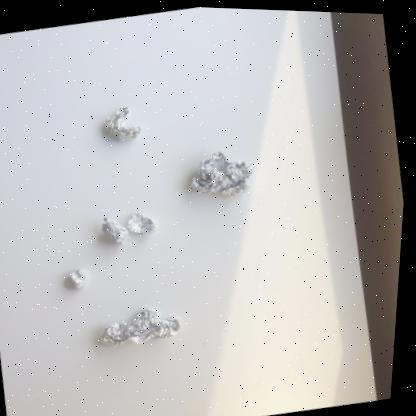Metal: (105, 306, 183, 344), (191, 148, 254, 194), (106, 105, 143, 139), (103, 215, 132, 243), (127, 210, 159, 232), (71, 267, 90, 287)
